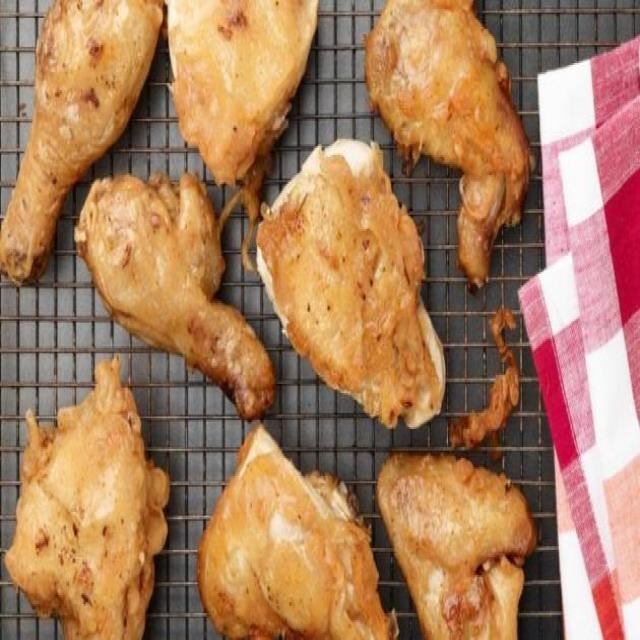Frango: (253, 143, 445, 424), (364, 0, 532, 274), (78, 180, 273, 415), (2, 0, 161, 283), (4, 373, 170, 640), (194, 422, 396, 640), (379, 454, 531, 640), (166, 0, 318, 178)
